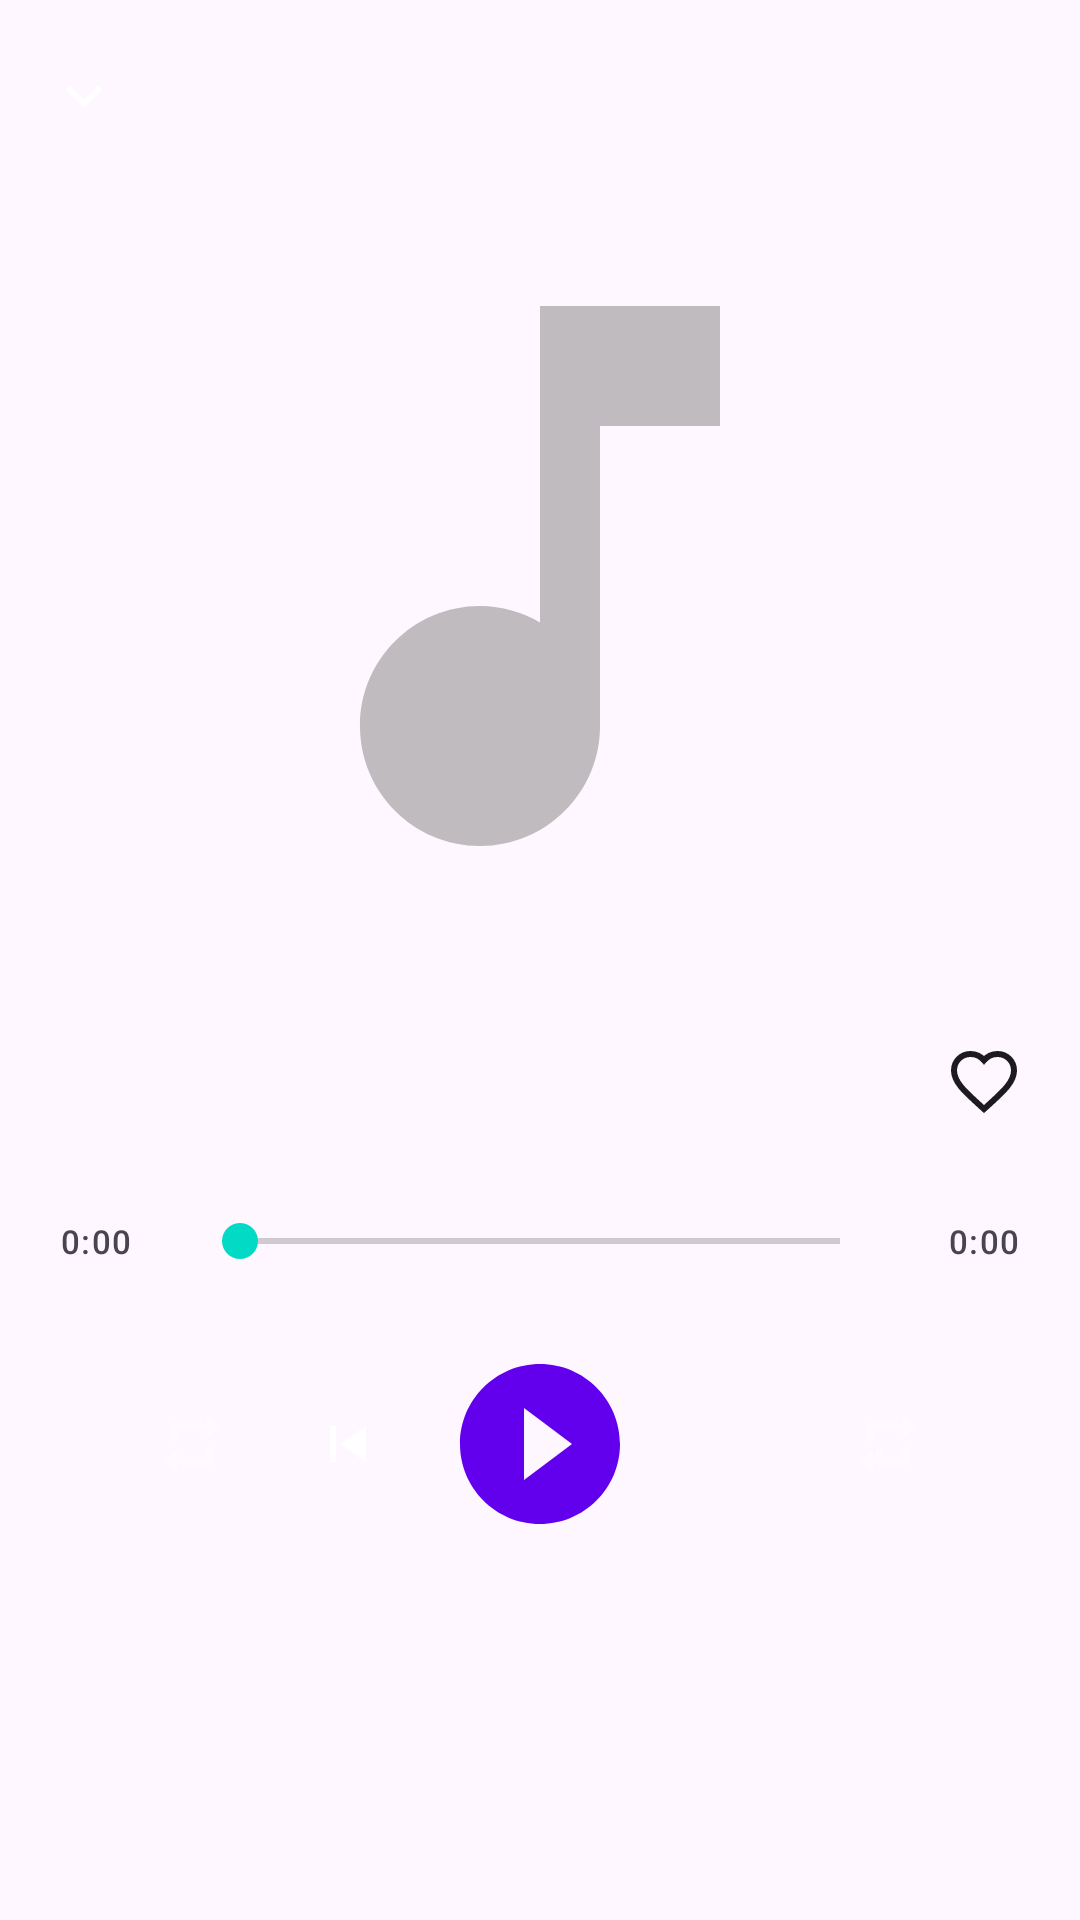

Where icons sit on this 1080×1920 app screen, as {"left": x1, "top": y1, "right": x2, "bottom": y2}:
Play / Pause: {"left": 459, "top": 1364, "right": 620, "bottom": 1524}
Toggle Favourite: {"left": 951, "top": 1051, "right": 1017, "bottom": 1113}
